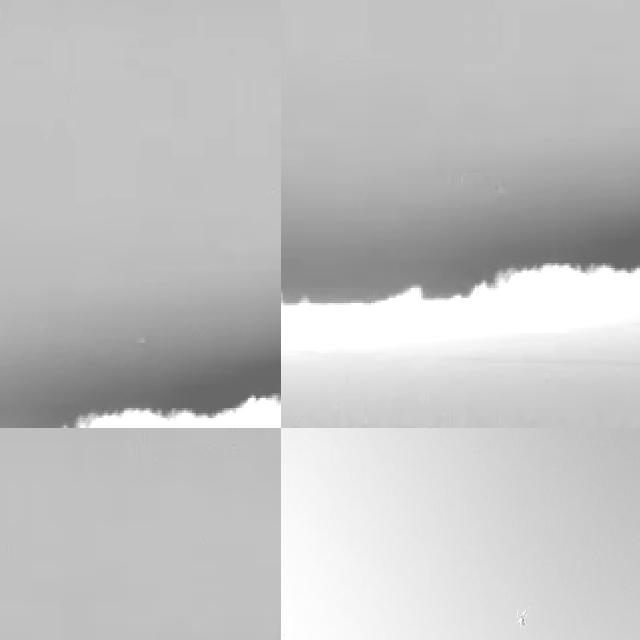0: (125, 326, 155, 358), (491, 180, 521, 210)
drone: (514, 600, 532, 632)
